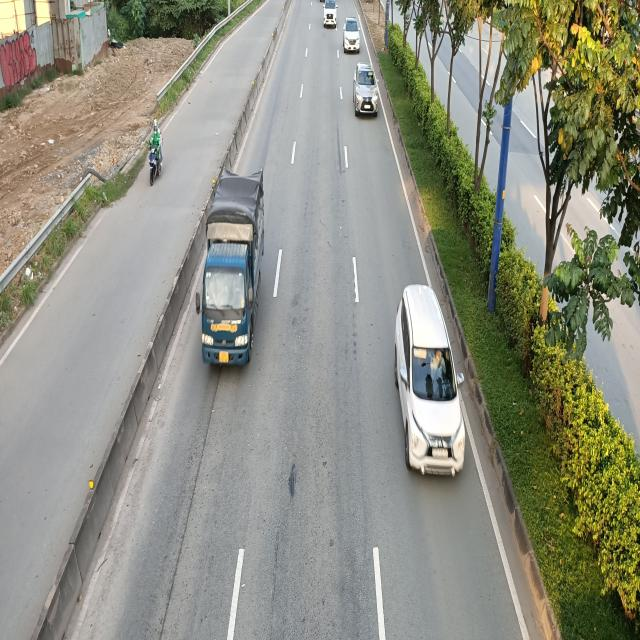car: (394, 283, 464, 474), (352, 62, 378, 116), (343, 16, 361, 54), (322, 0, 338, 27)
truck: (192, 173, 263, 372)
